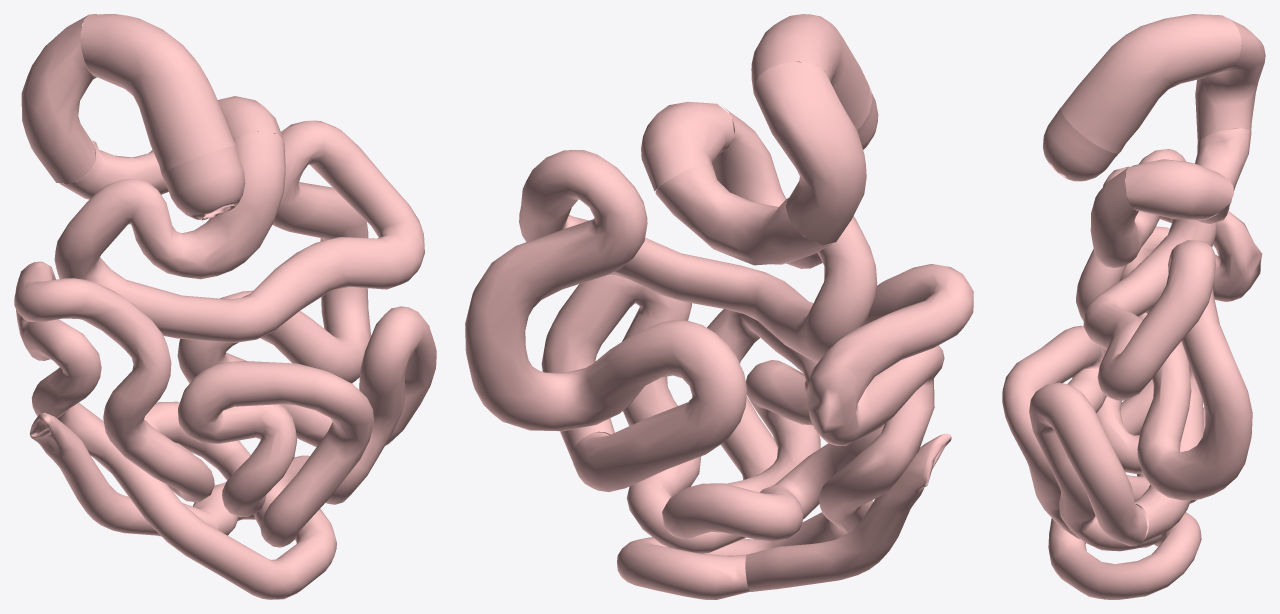
File: vh_f_small_intestine-40.glb
The picture shows the model from 3 angles, left to right: view 1: azimuth 30°, elevation 25°; view 2: azimuth 150°, elevation 25°; view 3: azimuth 270°, elevation 25°; orthographic projection. The views are drawn at different scales.
Visible parts, largest first — view 1: VH_F_ileum, VH_F_jejenum, VH_F_duodenum_superior, VH_F_duodenum_descending, VH_F_ileum_terminal, VH_F_duodenal_ampulla, VH_F_duodenum_horizontal, VH_F_duodenum_ascending; view 2: VH_F_ileum, VH_F_jejenum, VH_F_duodenum_descending, VH_F_ileum_terminal, VH_F_duodenum_horizontal, VH_F_duodenum_superior, VH_F_duodenum_ascending; view 3: VH_F_jejenum, VH_F_ileum, VH_F_duodenum_superior, VH_F_duodenum_ascending, VH_F_duodenum_descending, VH_F_duodenal_ampulla, VH_F_duodenum_horizontal.
Part boxes in pixels (x1=…): VH_F_ileum: x1=14, y1=261, x2=436, y2=599; VH_F_jejenum: x1=54, y1=120, x2=424, y2=447; VH_F_duodenum_superior: x1=80, y1=14, x2=235, y2=173; VH_F_duodenum_descending: x1=21, y1=15, x2=96, y2=184; VH_F_ileum_terminal: x1=29, y1=412, x2=218, y2=536; VH_F_duodenal_ampulla: x1=161, y1=145, x2=245, y2=220; VH_F_duodenum_horizontal: x1=59, y1=140, x2=168, y2=199; VH_F_duodenum_ascending: x1=218, y1=96, x2=284, y2=140; VH_F_ileum: x1=541, y1=264, x2=973, y2=599; VH_F_jejenum: x1=465, y1=107, x2=877, y2=491; VH_F_duodenum_descending: x1=753, y1=62, x2=866, y2=245; VH_F_ileum_terminal: x1=745, y1=433, x2=951, y2=591; VH_F_duodenum_horizontal: x1=655, y1=164, x2=831, y2=265; VH_F_duodenum_superior: x1=751, y1=14, x2=872, y2=129; VH_F_duodenum_ascending: x1=641, y1=101, x2=734, y2=191; VH_F_jejenum: x1=1083, y1=149, x2=1252, y2=543; VH_F_ileum: x1=1002, y1=166, x2=1262, y2=599; VH_F_duodenum_superior: x1=1061, y1=14, x2=1241, y2=153; VH_F_duodenum_ascending: x1=1125, y1=159, x2=1233, y2=219; VH_F_duodenum_descending: x1=1195, y1=18, x2=1265, y2=141; VH_F_duodenal_ampulla: x1=1043, y1=108, x2=1120, y2=181; VH_F_duodenum_horizontal: x1=1193, y1=128, x2=1251, y2=223.
Size of the model in its own units: 0.1615 by 0.2172 by 0.1001.
